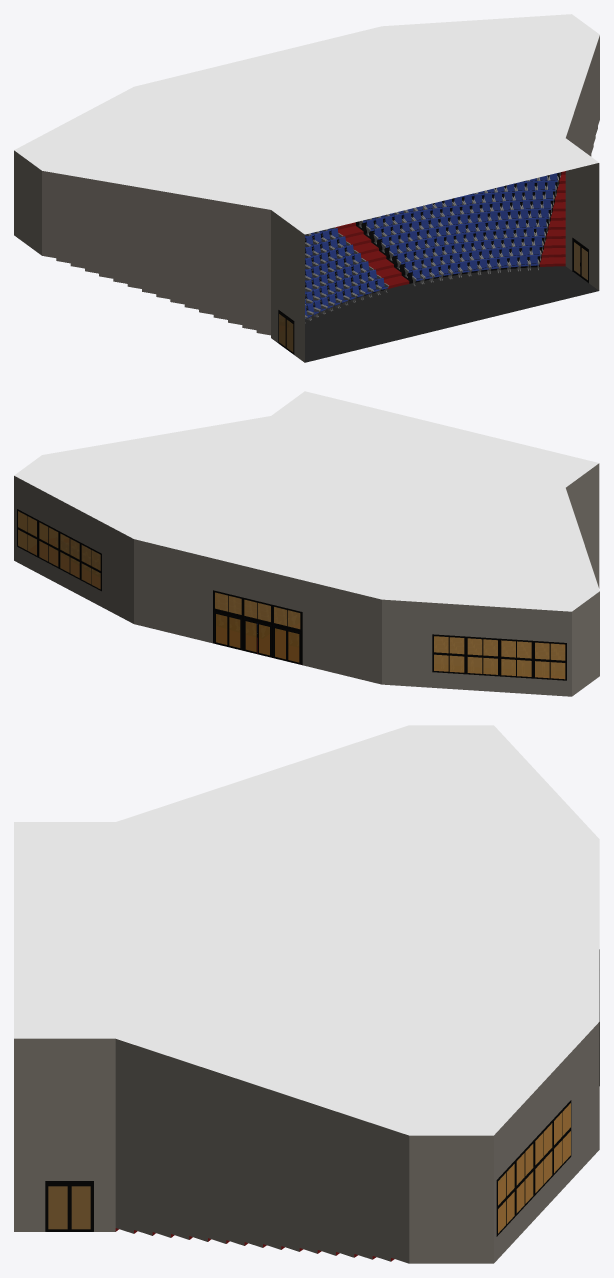
The model's file is RealAmphi.fbx.
3 views of the same model, one above another, from view 1: azimuth 30°, elevation 25°; view 2: azimuth 150°, elevation 25°; view 3: azimuth 270°, elevation 25° (orthographic). The views are drawn at different scales.
Visible parts, largest first — view 1: Material3.001, Material3.002, Material3.007, Material2.002, Material3.010, Material3.009, Material3.005, Material3.003, Material3.004, Material2.005, Material2.001; view 2: Material3.001, Material3.002, Material2.003, Material2.001, Material2.004; view 3: Material3.001, Material3.002, Material2.003, Material2.001, Material2.005.
Part boxes in pixels (box(x1,y1,x2,y2)): Material3.001: box(14, 14, 599, 234); Material3.002: box(14, 35, 599, 362); Material3.007: box(305, 172, 559, 319); Material2.002: box(305, 266, 598, 362); Material3.010: box(305, 172, 561, 315); Material3.009: box(335, 171, 565, 288); Material3.005: box(305, 176, 558, 316); Material3.003: box(305, 172, 560, 320); Material3.004: box(305, 185, 556, 323); Material2.005: box(279, 242, 587, 352); Material2.001: box(278, 237, 588, 354); Material3.001: box(14, 391, 599, 611); Material3.002: box(14, 463, 599, 696); Material2.003: box(18, 511, 565, 679); Material2.001: box(17, 509, 566, 680); Material2.004: box(216, 614, 299, 662); Material3.001: box(14, 725, 599, 1135); Material3.002: box(14, 1022, 599, 1263); Material2.003: box(498, 1103, 570, 1233); Material2.001: box(45, 949, 599, 1236); Material2.005: box(48, 1186, 90, 1229).
Size of the model in its own units: 1366 by 300 by 824.
